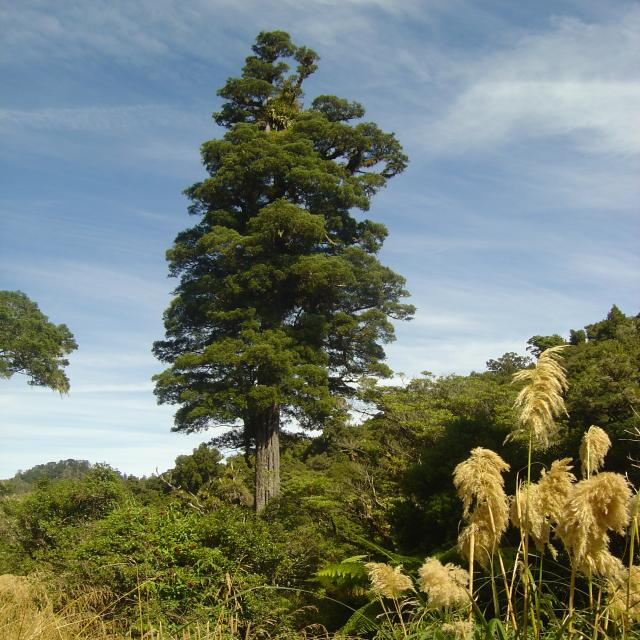Kahikatea: (154, 36, 387, 497)
